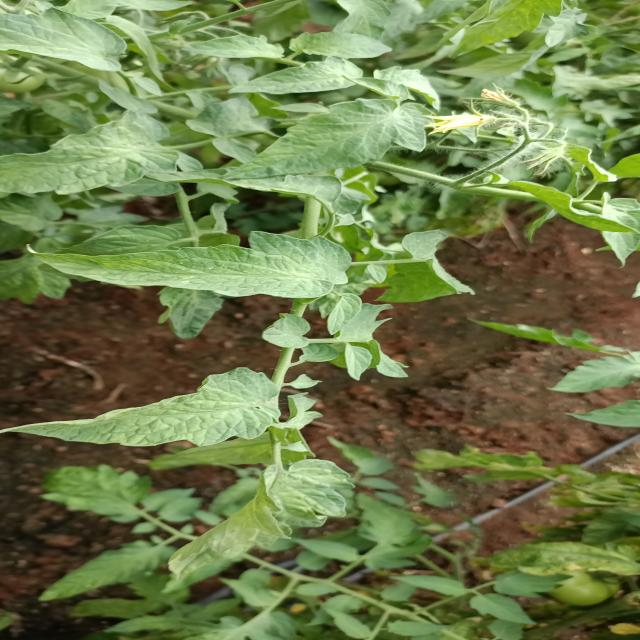Healthy Leaf: (8, 229, 373, 307), (8, 369, 296, 447), (217, 99, 432, 184)
